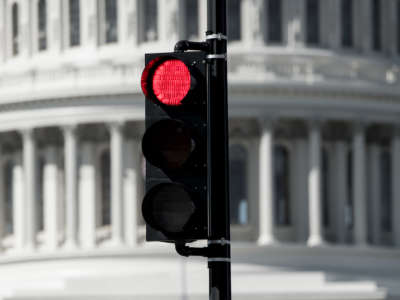trafficlight_red: (139, 51, 200, 235)
